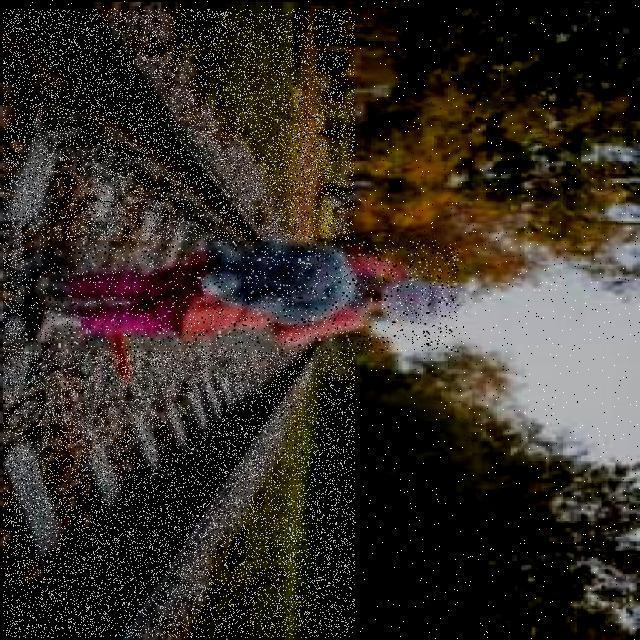danger: (24, 240, 458, 351)
rail: (3, 9, 355, 638)
